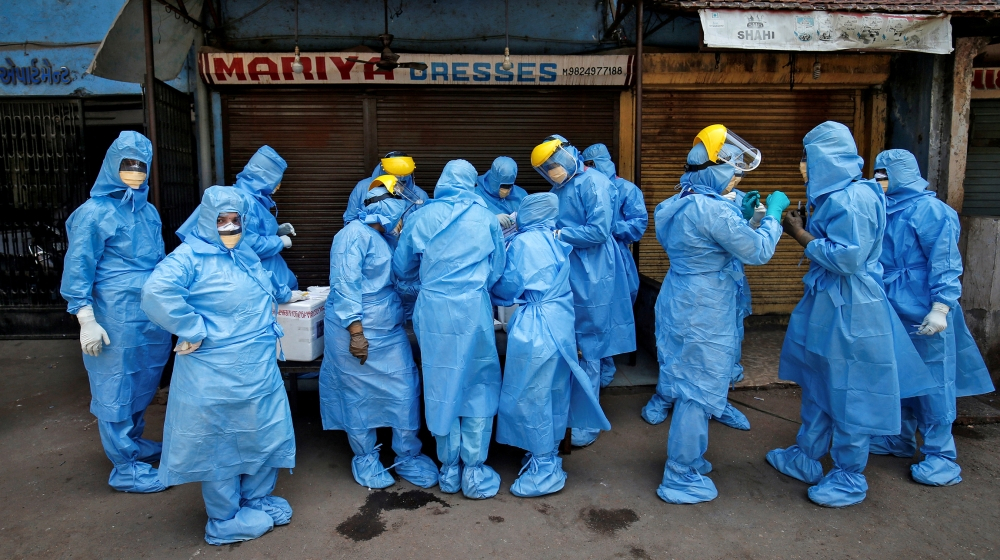Coverall: (144, 182, 298, 525), (783, 125, 906, 487), (651, 140, 773, 488), (403, 150, 509, 485), (69, 131, 169, 480), (875, 139, 974, 462), (326, 175, 420, 477), (504, 197, 577, 483)
Gloves: (73, 306, 115, 357), (911, 302, 953, 338), (169, 335, 208, 360), (762, 190, 791, 223), (347, 328, 369, 366)
with_mask: (214, 212, 248, 251), (118, 158, 147, 189)
